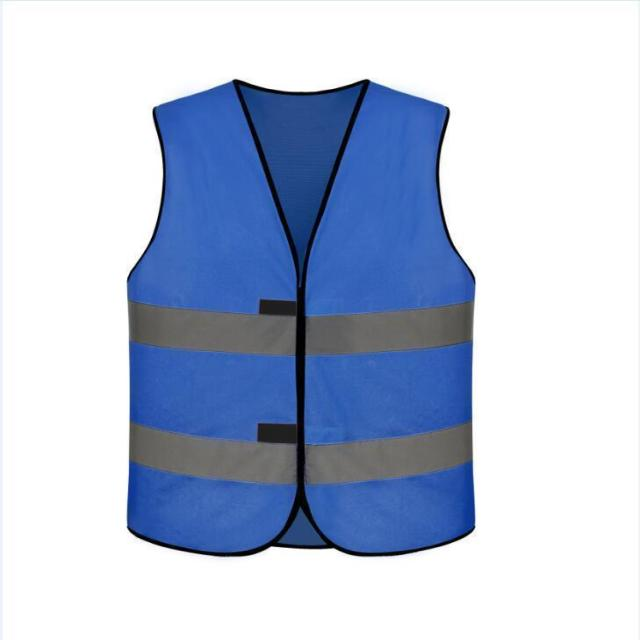Vest: (125, 79, 476, 558)
